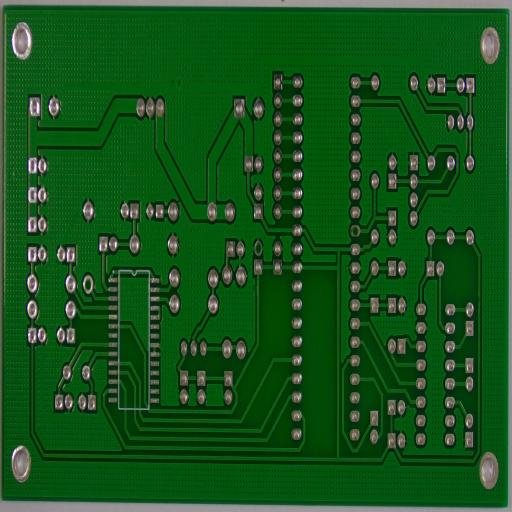missing_hole: (81, 272, 95, 295), (350, 221, 362, 242), (253, 237, 263, 258)
